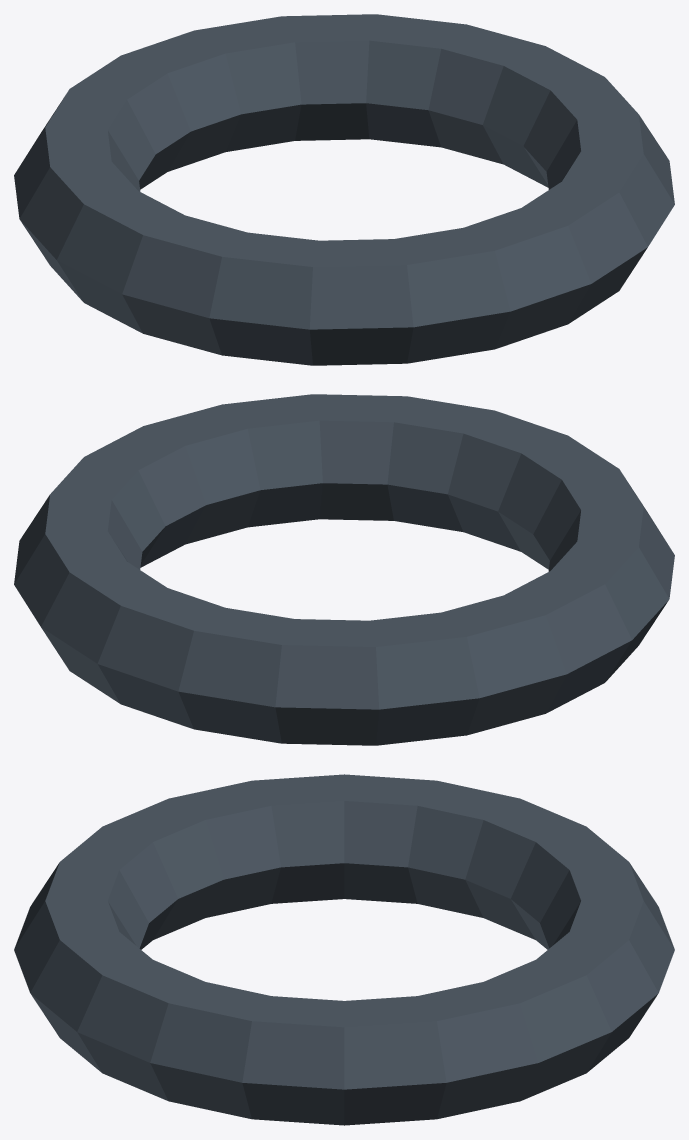
Rendered from Checkpoint_RingIdle.gltf.
The picture shows the model from 3 angles, top to bottom: view 1: azimuth 30°, elevation 25°; view 2: azimuth 150°, elevation 25°; view 3: azimuth 270°, elevation 25°; orthographic projection.
Parts seen in each view (by area): view 1: Checkpoint_RingIdle_baked; view 2: Checkpoint_RingIdle_baked; view 3: Checkpoint_RingIdle_baked.
Boxes of the visible parts, x1,y1,x2,y2 form: Checkpoint_RingIdle_baked: (14,14,674,365); Checkpoint_RingIdle_baked: (14,394,674,745); Checkpoint_RingIdle_baked: (14,774,674,1125).
Size of the model in its own units: 0.37 by 0.0606 by 0.37.
